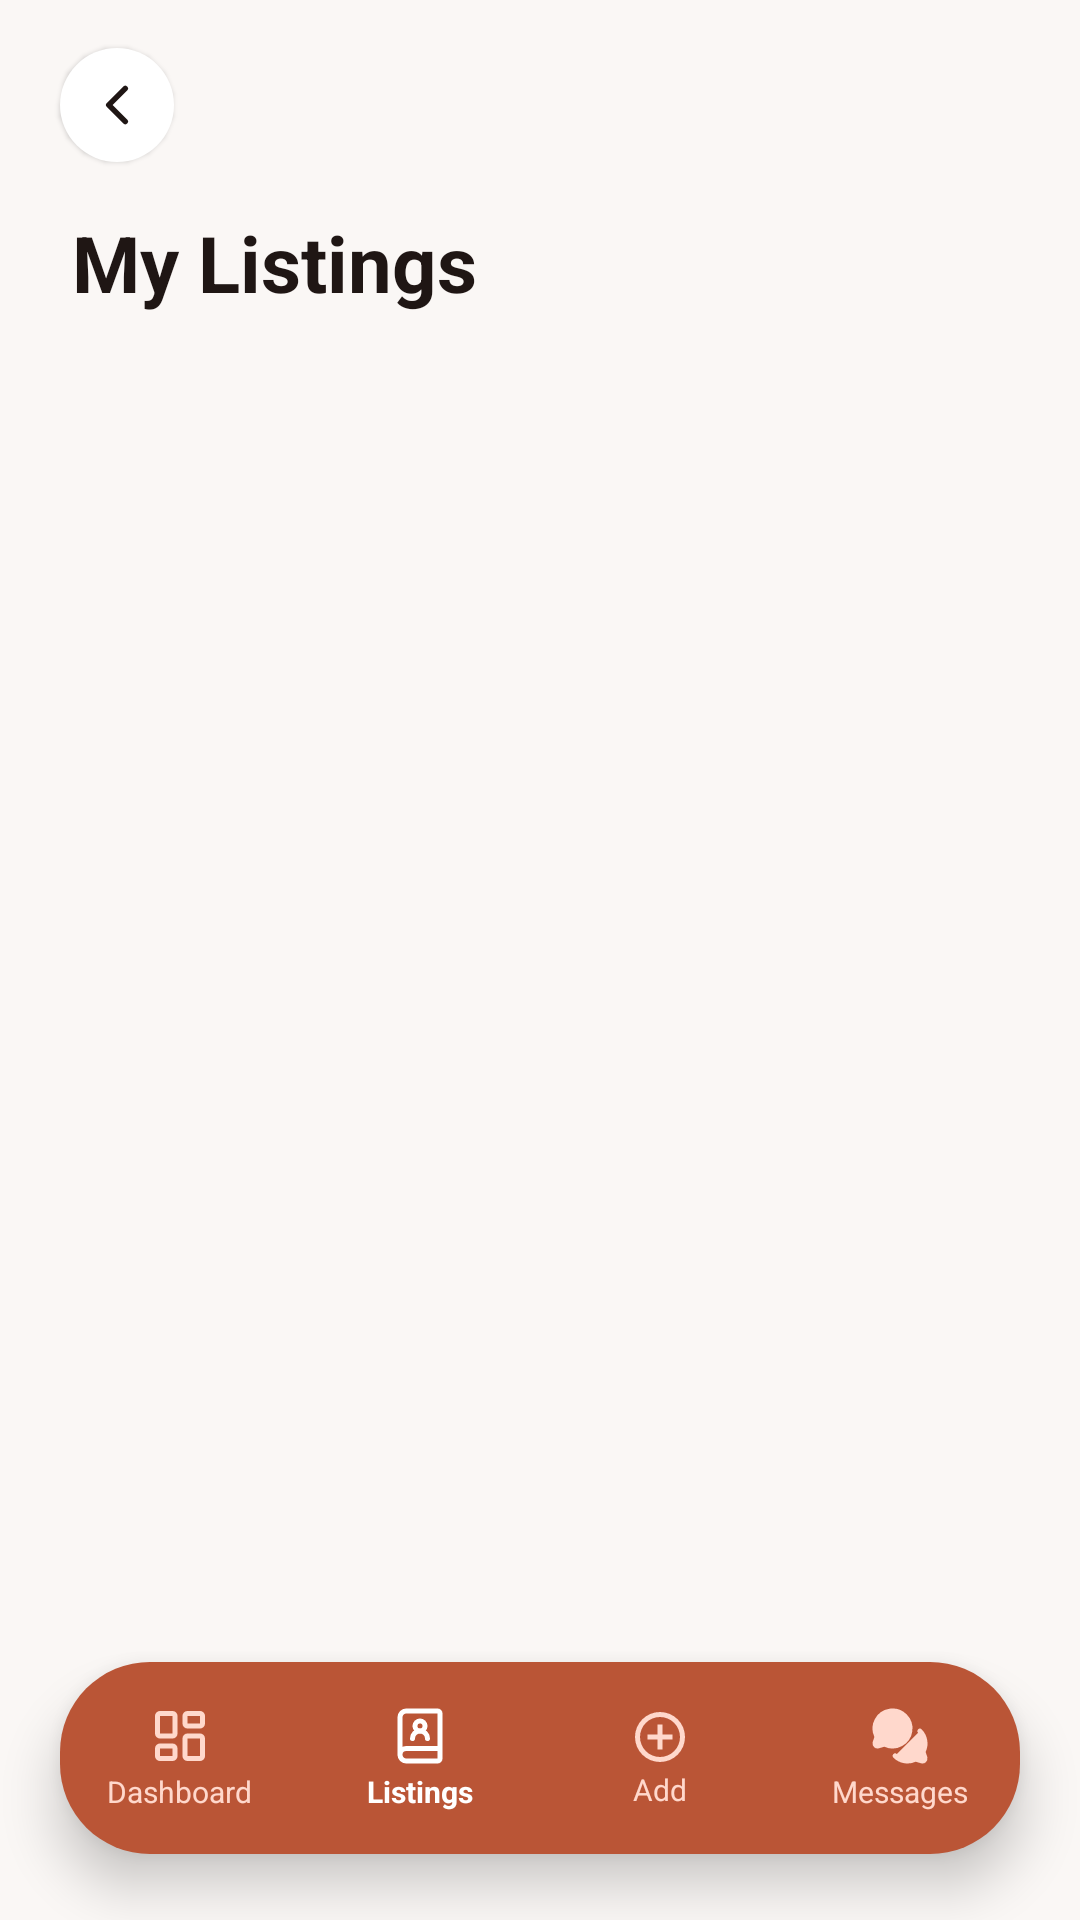

Where icons sit on this 1080px×1920px app screen, as (x1, y1, x2, y2):
Navigate Back: (60, 48, 174, 162)
